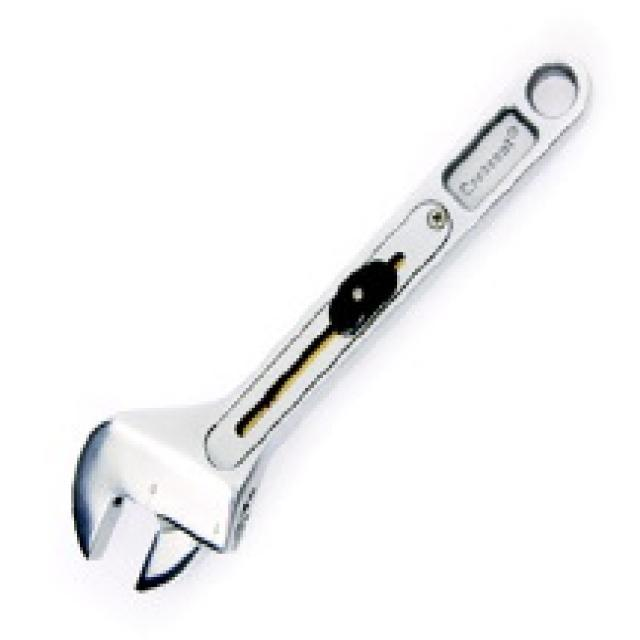wrench: (60, 46, 599, 595)
